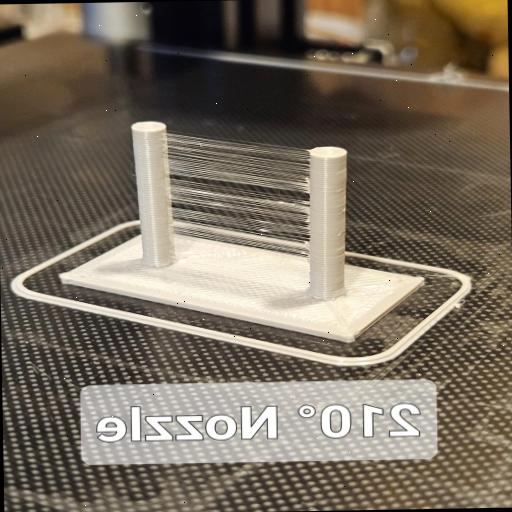stringing: (165, 136, 311, 258)
